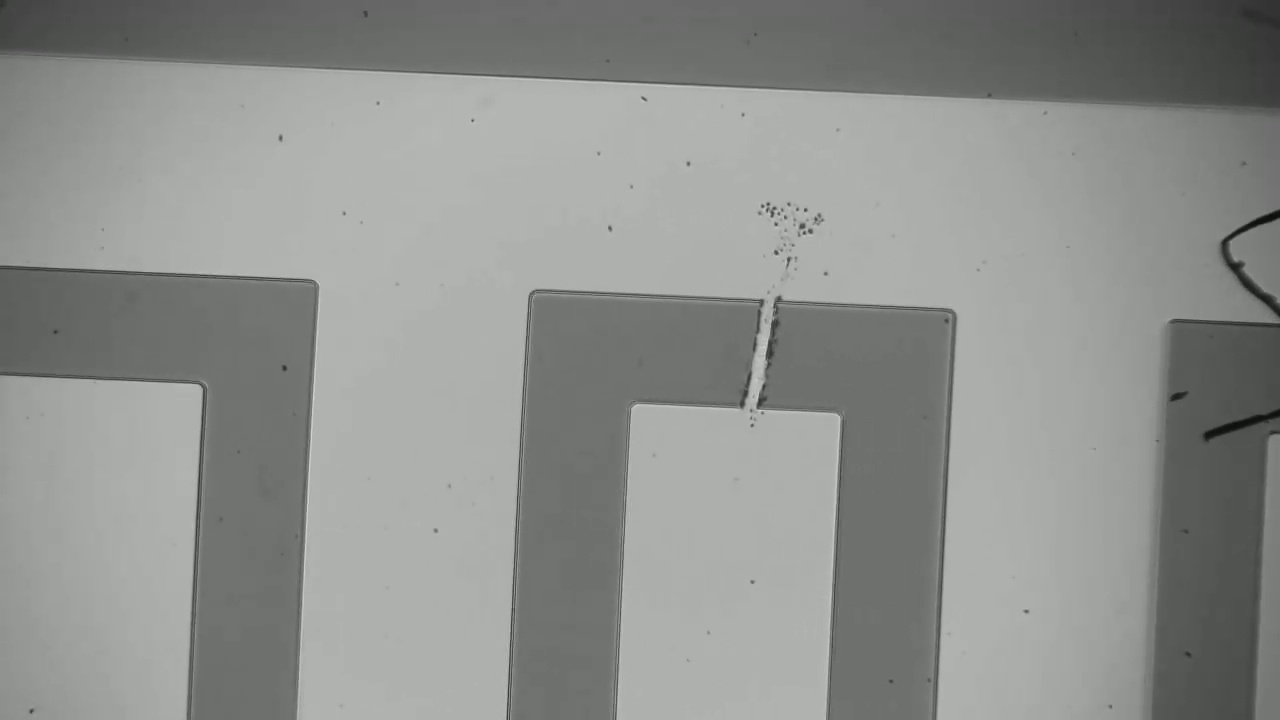Short_circuit: (713, 282, 801, 427)
